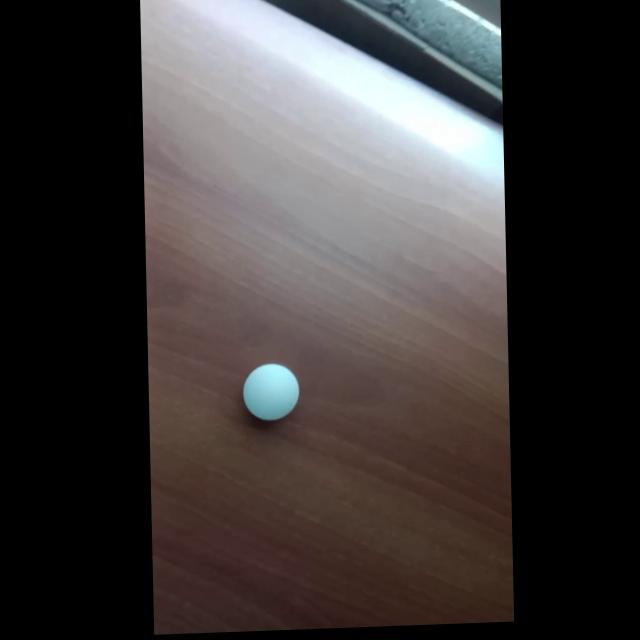white ball: (242, 362, 300, 422)
